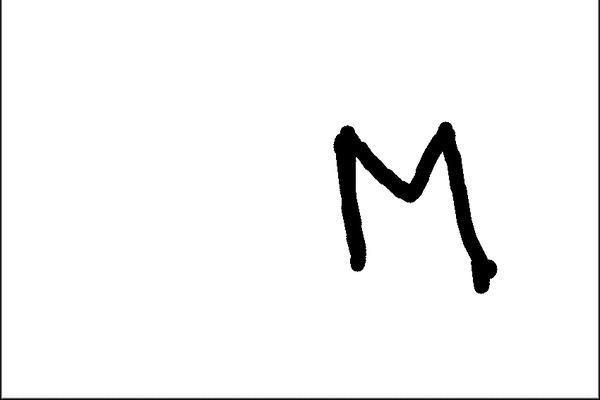M: (328, 122, 495, 293)
